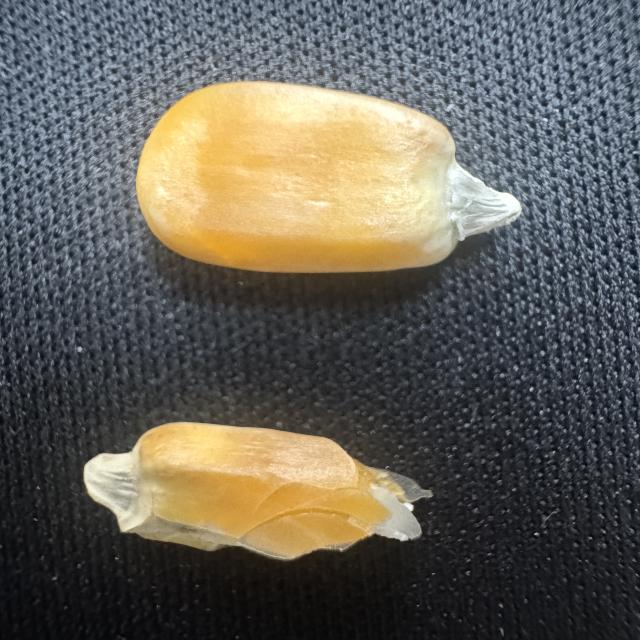Bad-Seed: (70, 414, 447, 576)
Good-Seed: (124, 72, 536, 276)
